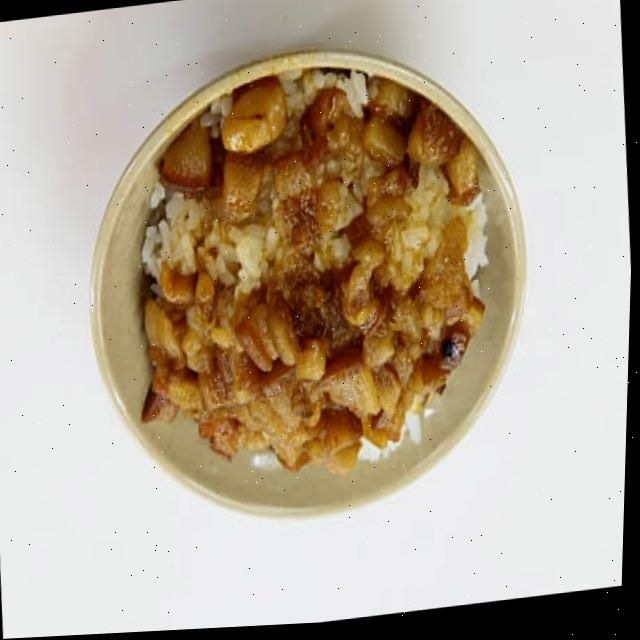猪肉菜式: (70, 26, 557, 551)
